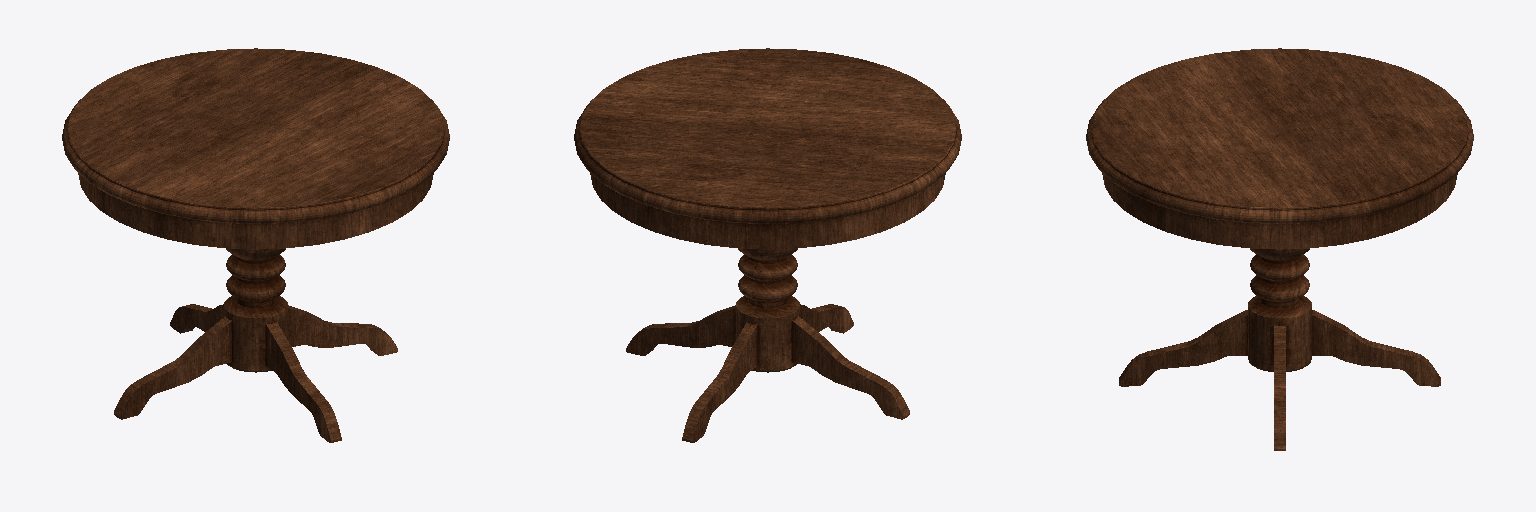
3 views of the same model, side by side, from view 1: azimuth 30°, elevation 25°; view 2: azimuth 150°, elevation 25°; view 3: azimuth 270°, elevation 25° (orthographic).
Visible parts, largest first — view 1: pCylinder6_blinn1_0; view 2: pCylinder6_blinn1_0; view 3: pCylinder6_blinn1_0.
Part boxes in pixels (x1,y1,x2,y2): pCylinder6_blinn1_0: (62,48,449,442); pCylinder6_blinn1_0: (574,48,961,442); pCylinder6_blinn1_0: (1086,48,1473,450).
Size of the model in its own units: 4.53 by 3.3 by 4.53.
Materials: 1 (1 with a texture image).